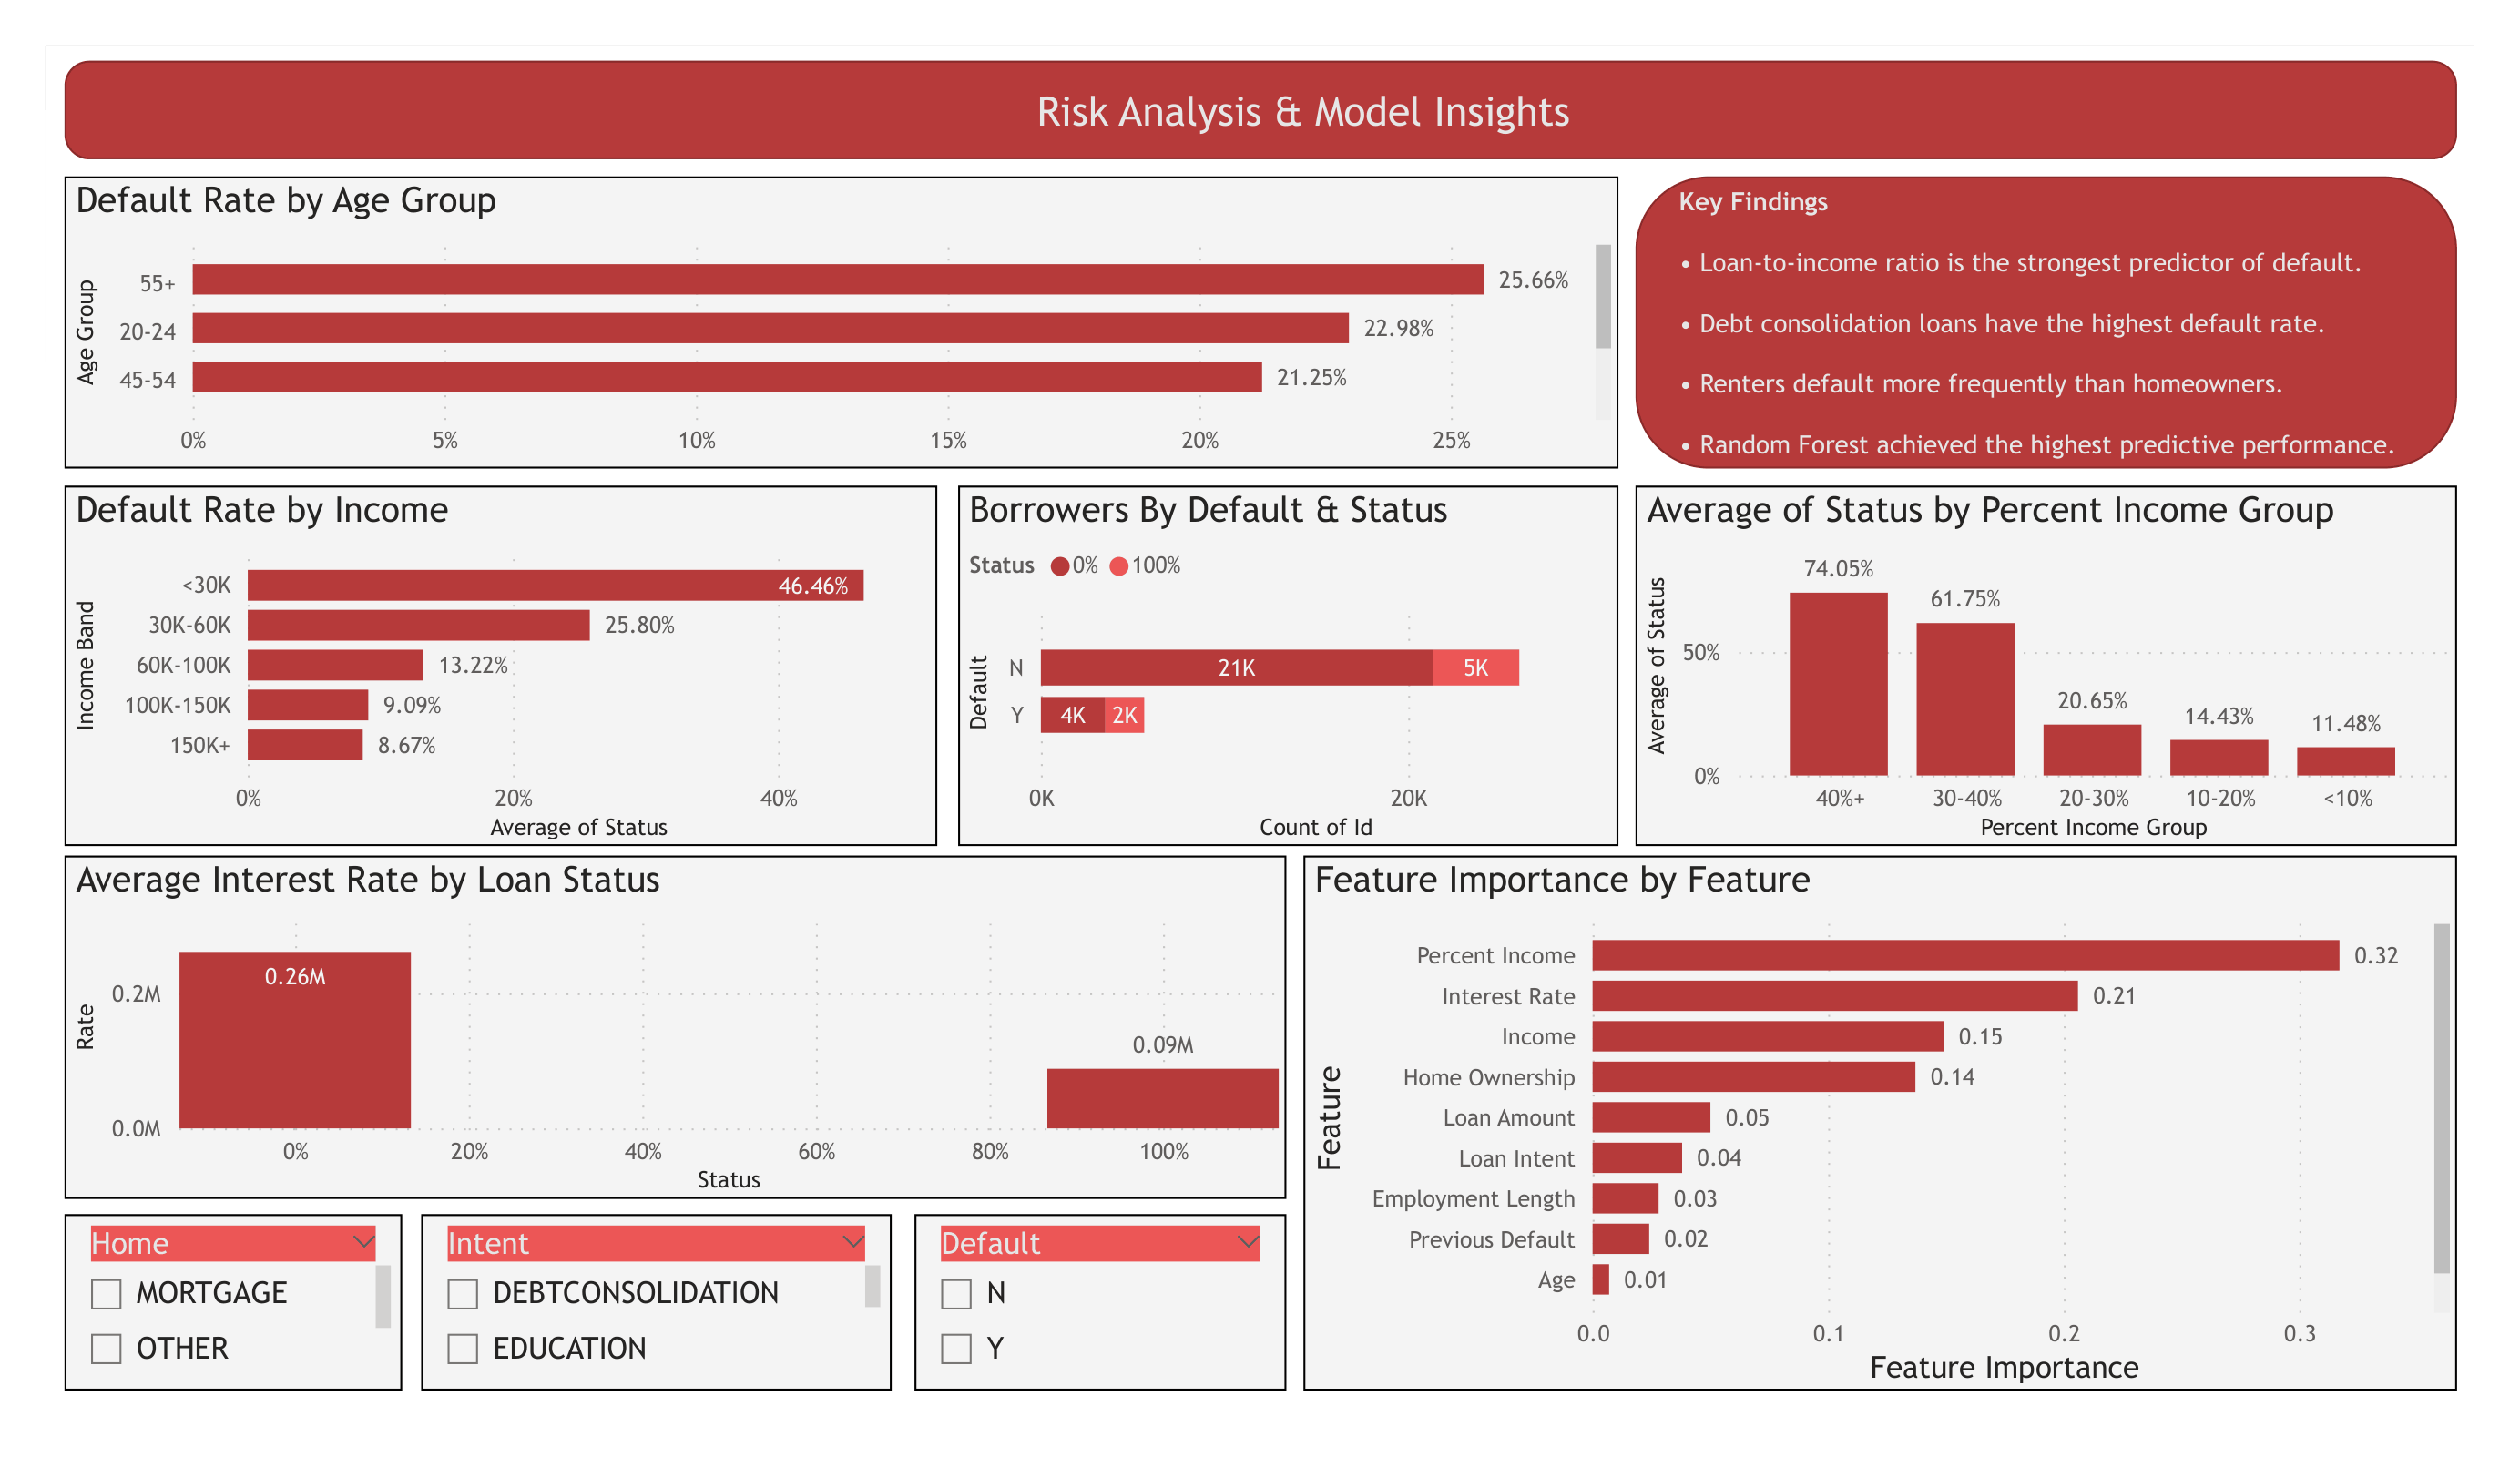

What the dashboard file says about the page in this screenshot:
{"tool":"powerbi","page":{"name":"Risk Analysis","canvas":[1280,720],"ordinal":1},"visuals":[{"type":"clusteredBarChart","title":"Default Rate by Age Group","fields":{"Category":["clean_credit_risk.Age Group"],"Y":["Avg(clean_credit_risk.Status)"]},"box":[9.6,68.7,818.9,154.4],"z":0},{"type":"barChart","title":"Default Rate by Income","fields":{"Category":["clean_credit_risk.Income Band"],"Y":["Avg(clean_credit_risk.Status)"]},"box":[9.6,231.8,460.7,190.6],"z":1000},{"type":"columnChart","title":"Average Interest Rate by Loan Status","fields":{"Category":["clean_credit_risk.Status"],"Y":["Sum(clean_credit_risk.Rate)"]},"box":[9.6,426.9,644,180.9],"z":2000},{"type":"barChart","title":"Borrowers By Default & Status","fields":{"Category":["clean_credit_risk.Default"],"Y":["CountNonNull(clean_credit_risk.Id)"],"Series":["clean_credit_risk.Status"]},"box":[481.2,231.8,347.3,190.6],"z":3000},{"type":"slicer","fields":{"Values":["clean_credit_risk.Home"]},"box":[9.6,616.3,178.5,92.9],"z":4000},{"type":"slicer","fields":{"Values":["clean_credit_risk.Intent"]},"box":[197.8,616.3,248.4,92.9],"z":5000},{"type":"slicer","fields":{"Values":["clean_credit_risk.Default"]},"box":[458.3,616.3,195.4,92.9],"z":6000},{"type":"shape","box":[838.2,68.7,433,154.4],"z":7000},{"type":"textbox","box":[856.3,68.7,396.8,162.8],"z":8000},{"type":"barChart","fields":{"Category":["Table.Column1"],"Y":["Sum(Table.Column2)"]},"box":[663.3,426.9,607.8,282.2],"z":9000},{"type":"shape","box":[9.6,8.4,1261.5,51.9],"z":10000},{"type":"textbox","box":[512.6,16.9,300.3,35],"z":11000},{"type":"clusteredColumnChart","fields":{"Category":["clean_credit_risk.Percent Income Group"],"Y":["Avg(clean_credit_risk.Status)"]},"box":[838.2,231.6,433,190.6],"z":12000}]}

Visuals, with their boxes in screenshot pixels (x1, y1, x2, y2):
"Default Rate by Age Group" clusteredBarChart: [84, 175, 1617, 464]
"Default Rate by Income" barChart: [84, 480, 946, 837]
"Average Interest Rate by Loan Status" columnChart: [84, 845, 1290, 1184]
"Borrowers By Default & Status" barChart: [967, 480, 1617, 837]
slicer - clean_credit_risk.Home: [84, 1200, 418, 1374]
slicer - clean_credit_risk.Intent: [436, 1200, 902, 1374]
slicer - clean_credit_risk.Default: [923, 1200, 1290, 1374]
shape: [1636, 175, 2446, 464]
textbox: [1669, 175, 2413, 479]
barChart - Table.Column1 x Sum(Table.Column2): [1308, 845, 2446, 1374]
shape: [84, 62, 2446, 158]
textbox: [1025, 77, 1588, 143]
clusteredColumnChart - clean_credit_risk.Percent Income Group x Avg(clean_credit_risk.Status): [1636, 480, 2446, 837]
